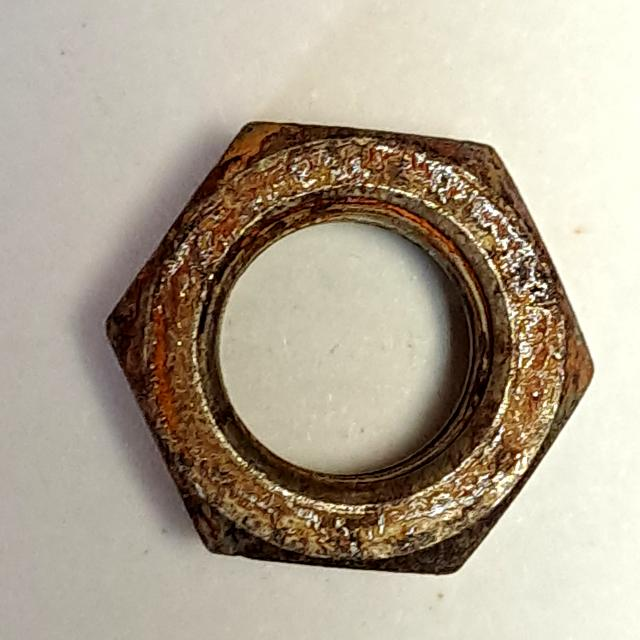Rust: (98, 113, 612, 604)
